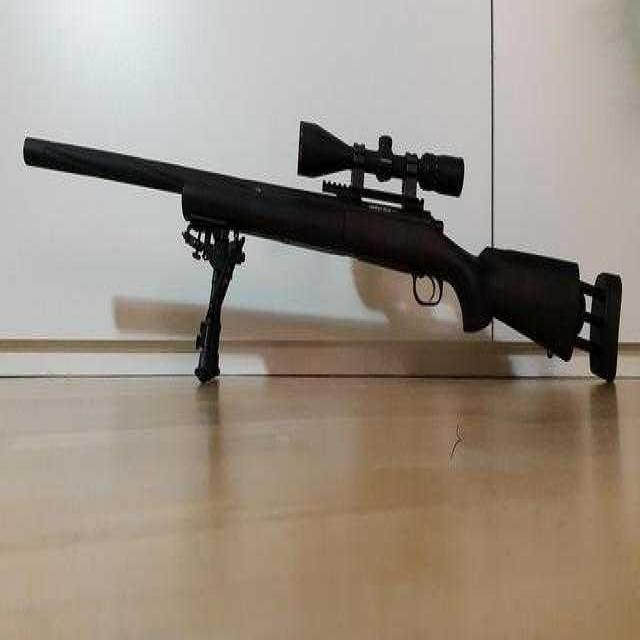Rifle: (19, 41, 636, 435)
